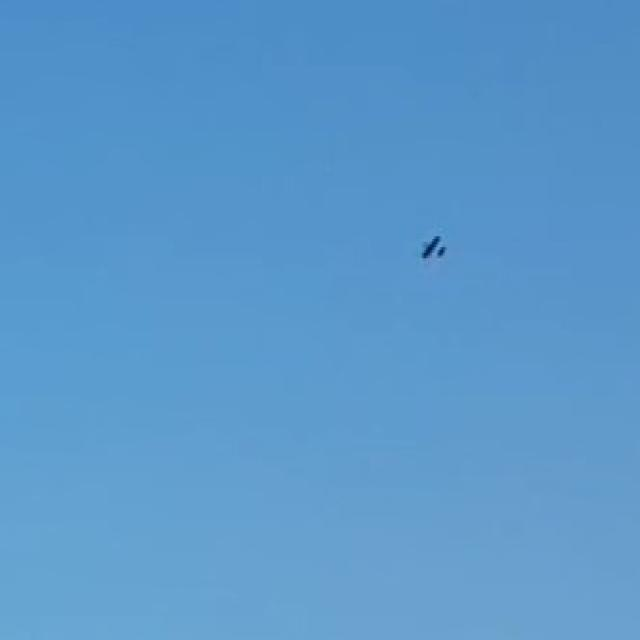iha: (421, 236, 447, 259)
